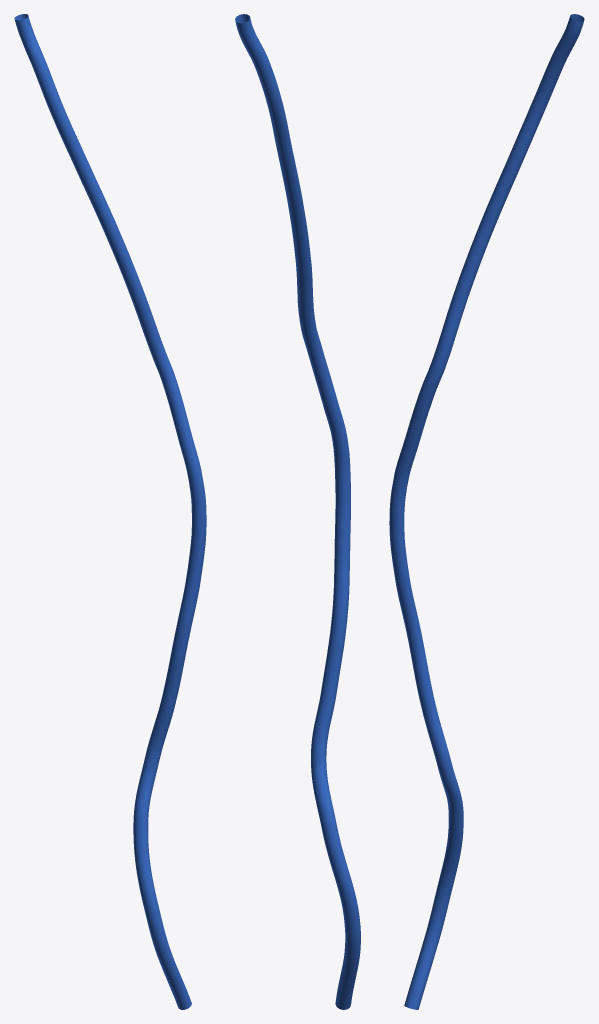
Rendered from circulatorio-left-ascending-lumbar-vein.glb.
3 renders of one model, left to right at view 1: azimuth 90°, elevation 25°; view 2: azimuth 150°, elevation 25°; view 3: azimuth 270°, elevation 25°, orthographic. The views are drawn at different scales.
Parts seen in each view (by area): view 1: Left ascending lumbar vein; view 2: Left ascending lumbar vein; view 3: Left ascending lumbar vein.
Boxes of the visible parts, x1=… form: Left ascending lumbar vein: x1=14, y1=14, x2=206, y2=1009; Left ascending lumbar vein: x1=235, y1=14, x2=360, y2=1009; Left ascending lumbar vein: x1=389, y1=14, x2=584, y2=1009.
Size of the model in its own units: 0.0105 by 0.1766 by 0.0312.
